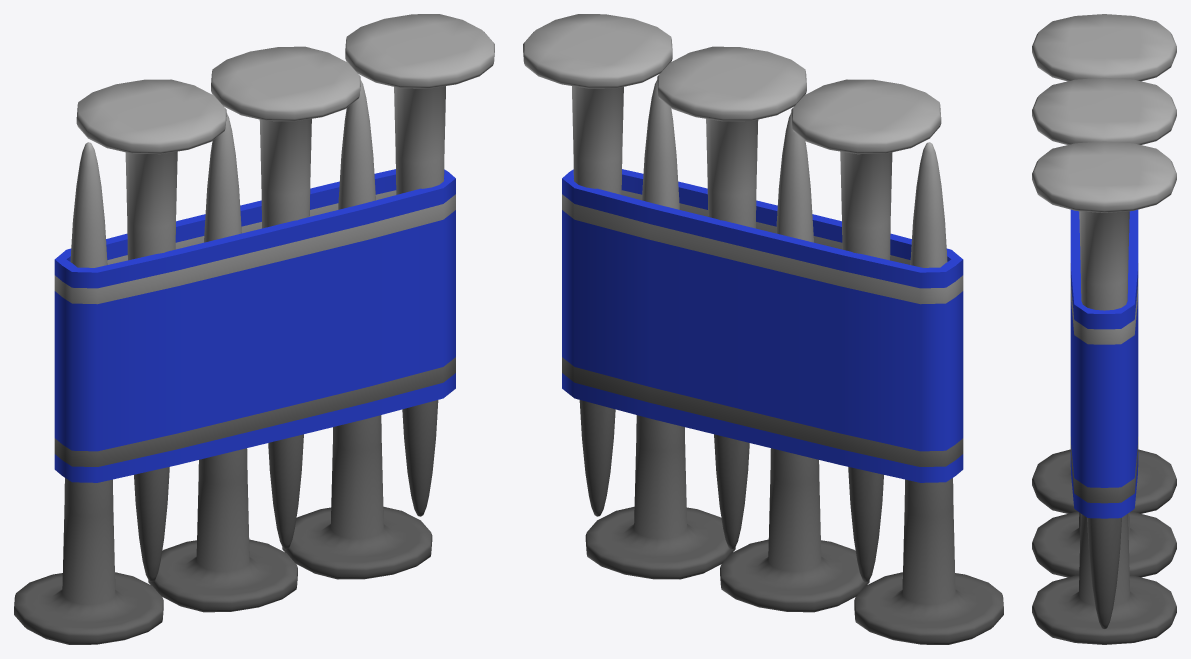
Rendered from nails.fbx.
The picture shows the model from 3 angles, left to right: view 1: azimuth 30°, elevation 25°; view 2: azimuth 150°, elevation 25°; view 3: azimuth 270°, elevation 25°; orthographic projection. The views are drawn at different scales.
Visible parts, largest first — view 1: Cube.012, Cube.013; view 2: Cube.012, Cube.013; view 3: Cube.012, Cube.013.
Boxes of the visible parts, left/top/right/bottom form: Cube.012: left=14, top=14, right=494, bottom=644; Cube.013: left=54, top=169, right=455, bottom=482; Cube.012: left=523, top=14, right=1003, bottom=644; Cube.013: left=562, top=169, right=963, bottom=482; Cube.012: left=1032, top=14, right=1176, bottom=644; Cube.013: left=1070, top=209, right=1138, bottom=518.
Size of the model in its own units: 36.64 by 37.2 by 10.27.
